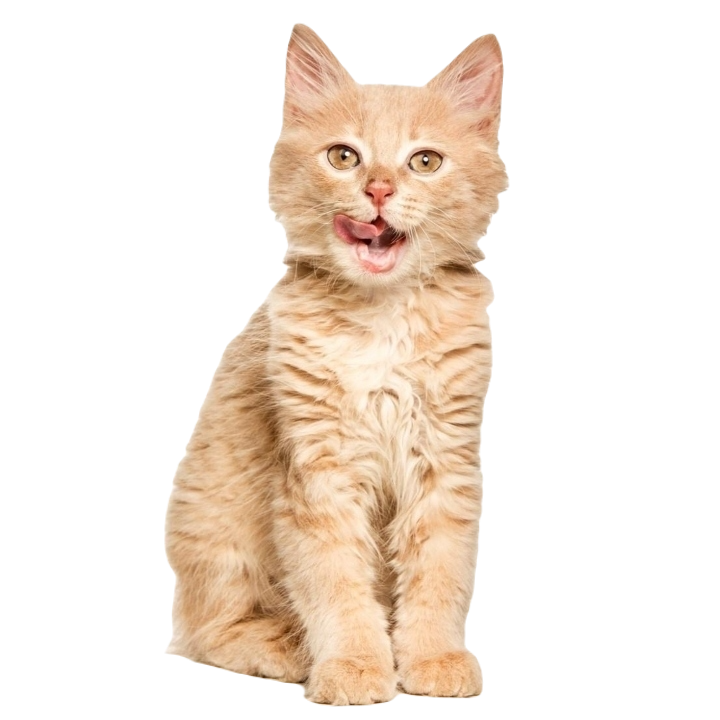Cat: (156, 0, 522, 708)
